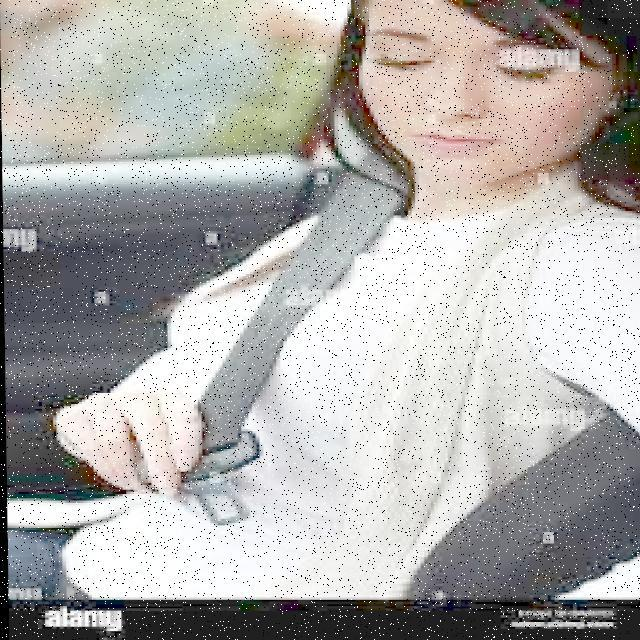seatbelt: (140, 186, 570, 457)
